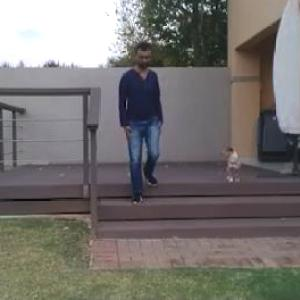follow: (118, 39, 159, 206)
